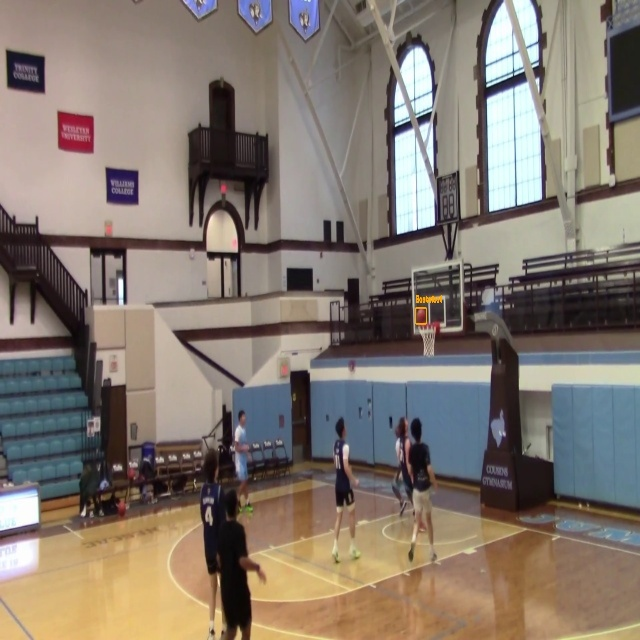Basketball: (416, 308, 426, 324)
